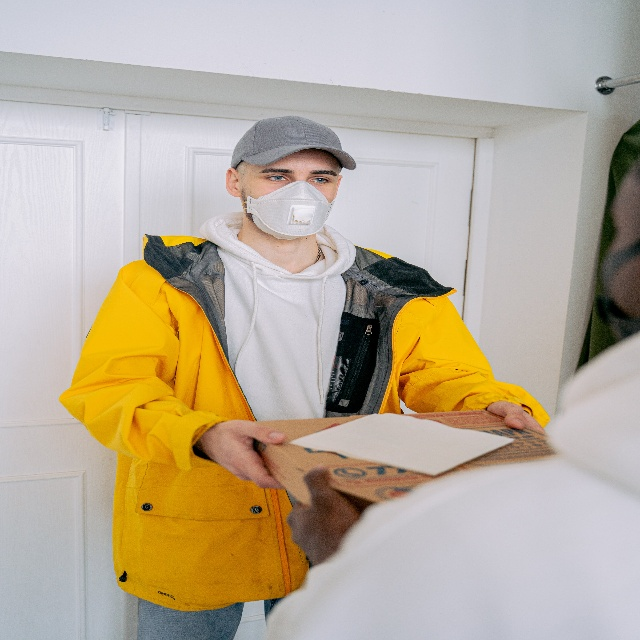Mascara: (242, 180, 335, 240)
Sin_guantes: (197, 419, 288, 489), (486, 399, 545, 434)
